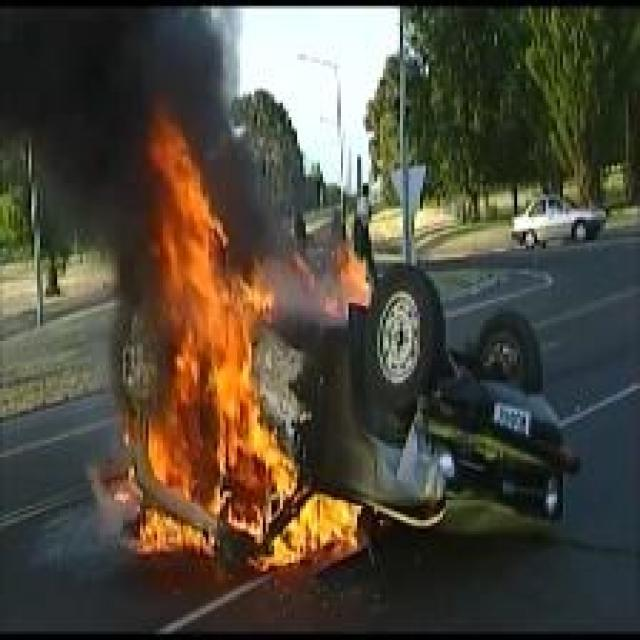Fire: (114, 113, 374, 576)
